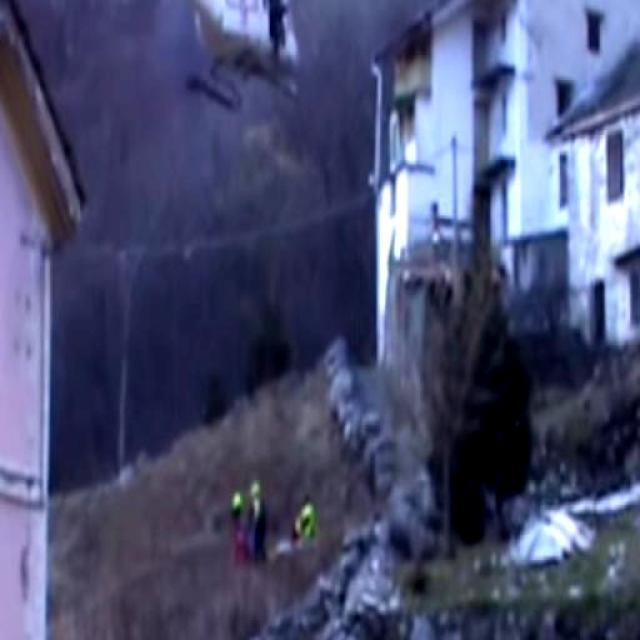drone: (104, 0, 325, 116)
